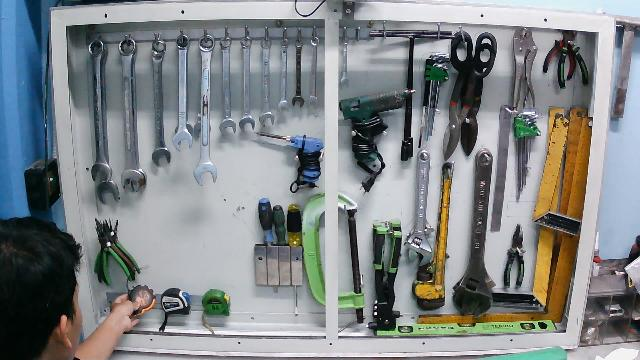meteran: (115, 281, 158, 322)
